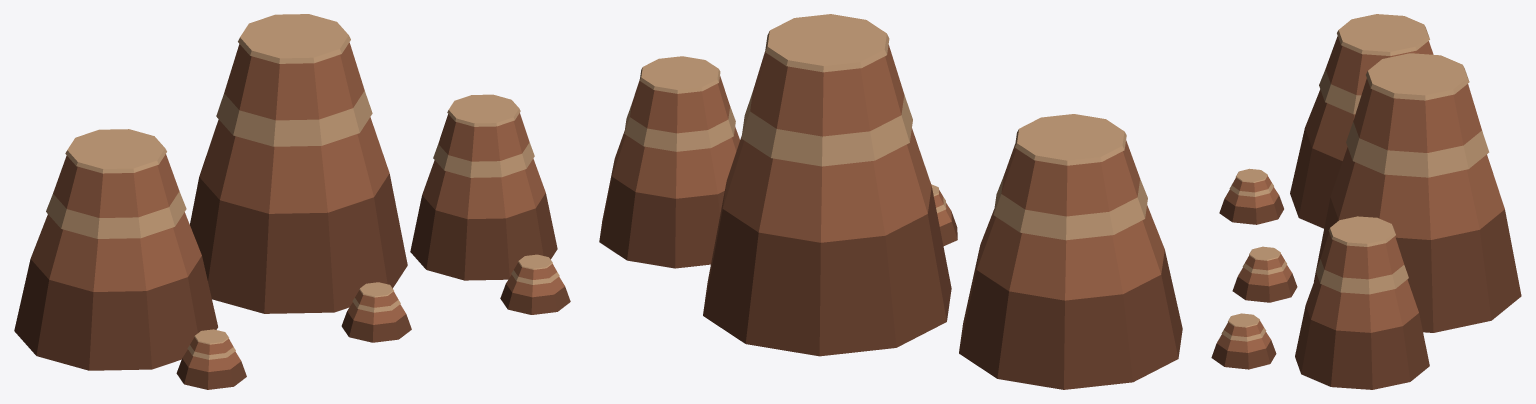
Rendered from Desert_MesaBackdrop_Standard.glb.
3 renders of one model, left to right at view 1: azimuth 30°, elevation 25°; view 2: azimuth 150°, elevation 25°; view 3: azimuth 270°, elevation 25°, orthographic. The views are drawn at different scales.
Parts seen in each view (by area): view 1: Desert_MesaBackdrop_Standard; view 2: Desert_MesaBackdrop_Standard; view 3: Desert_MesaBackdrop_Standard.
Boxes of the visible parts, x1=… form: Desert_MesaBackdrop_Standard: x1=14, y1=14, x2=570, y2=389; Desert_MesaBackdrop_Standard: x1=599, y1=14, x2=1182, y2=389; Desert_MesaBackdrop_Standard: x1=1211, y1=14, x2=1521, y2=389.
Bounding box in the file's own units: 20.63 × 9 × 11.78.
